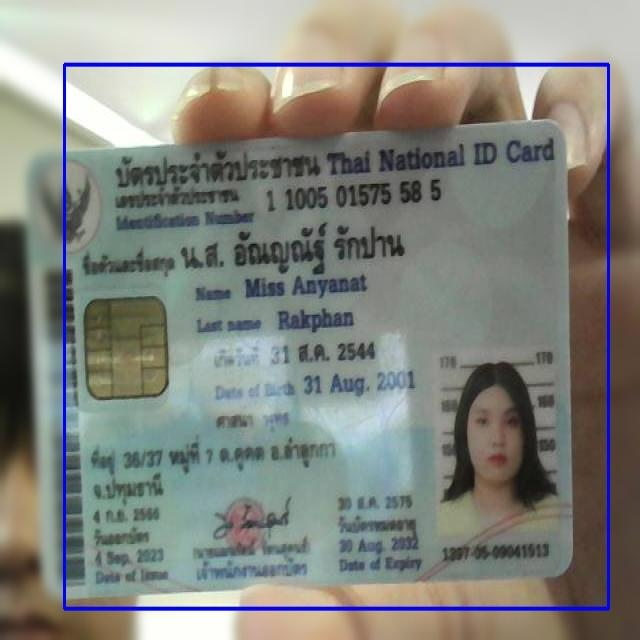Address_th: (86, 429, 339, 510)
Date_of_Birth: (301, 366, 419, 403)
Date_of_Issue: (335, 533, 424, 557), (89, 545, 173, 568)
First_Name: (243, 272, 371, 303)
ID_Number: (256, 176, 450, 215)
Image: (428, 344, 564, 544)
Last_Name: (274, 306, 357, 338)
Thai_Name: (174, 216, 413, 276)
